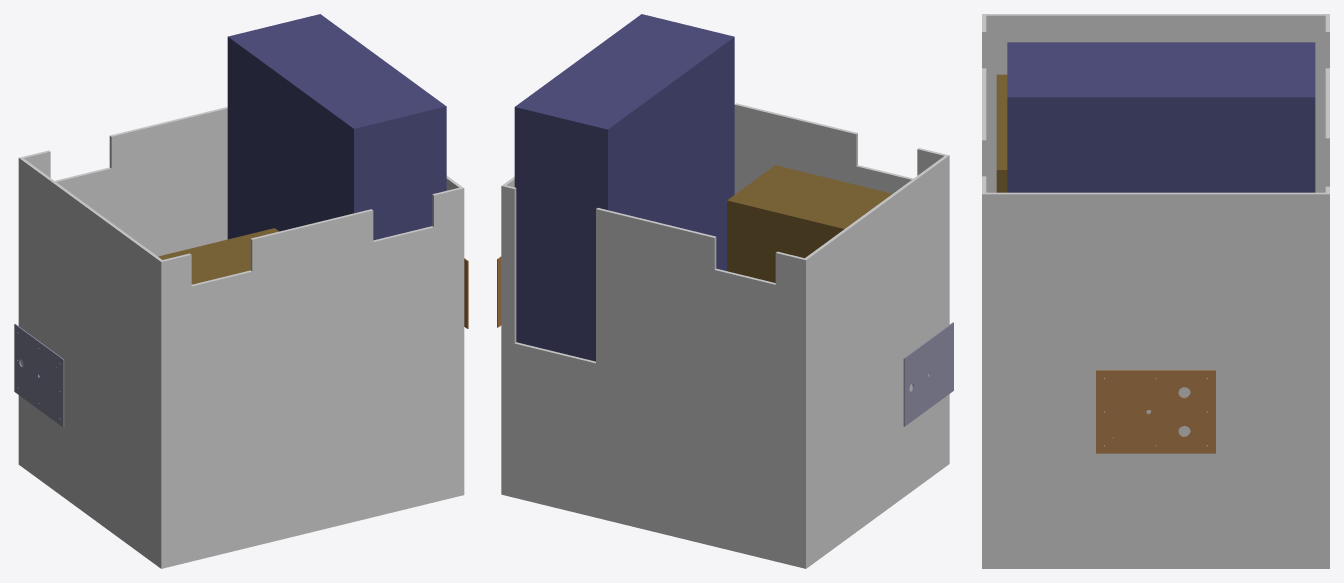
Rendered from assembly-exploded.glb.
3 renders of one model, left to right at view 1: azimuth 30°, elevation 25°; view 2: azimuth 150°, elevation 25°; view 3: azimuth 270°, elevation 25°, orthographic. The views are drawn at different scales.
Parts seen in each view (by area): view 1: container_shell, GRD-SWG-001, ARC-PLT-CG, GRD-XFM-001; view 2: container_shell, GRD-SWG-001, GRD-XFM-001, ARC-PLT-CG; view 3: container_shell, GRD-SWG-001, ARC-PLT-BG-DC, GRD-XFM-001.
Boxes of the visible parts, <box> form: container_shell: <box>18,107,464,568</box>; GRD-SWG-001: <box>227,14,446,240</box>; ARC-PLT-CG: <box>14,323,64,427</box>; GRD-XFM-001: <box>158,228,278,284</box>; container_shell: <box>501,103,949,568</box>; GRD-SWG-001: <box>514,14,734,361</box>; GRD-XFM-001: <box>727,165,892,282</box>; ARC-PLT-CG: <box>903,322,953,426</box>; container_shell: <box>982,14,1329,568</box>; GRD-SWG-001: <box>1007,42,1315,192</box>; ARC-PLT-BG-DC: <box>1096,370,1215,453</box>; GRD-XFM-001: <box>996,74,1007,192</box>.
Size of the model in its own units: 4001 by 3613 by 2438.
